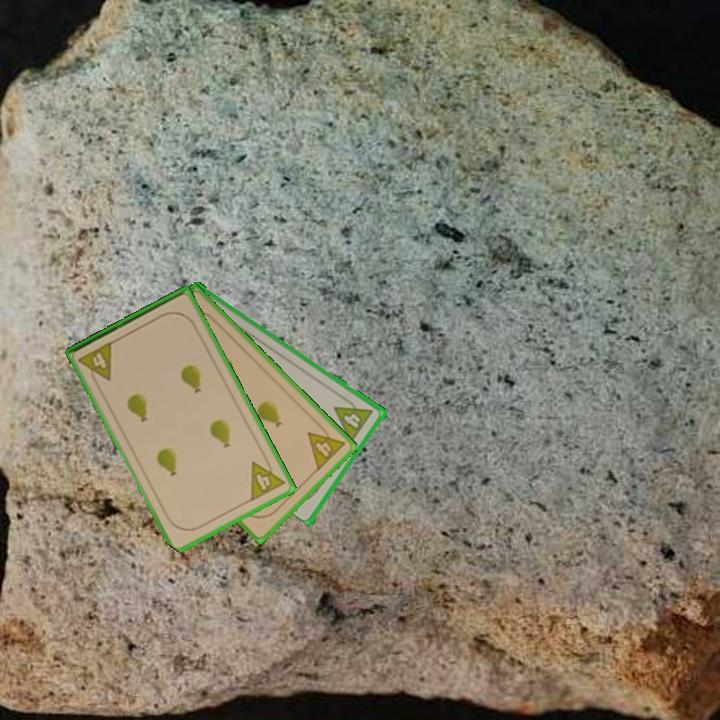4p: (304, 419, 348, 474), (331, 393, 376, 445), (247, 452, 288, 504), (75, 338, 116, 389)
